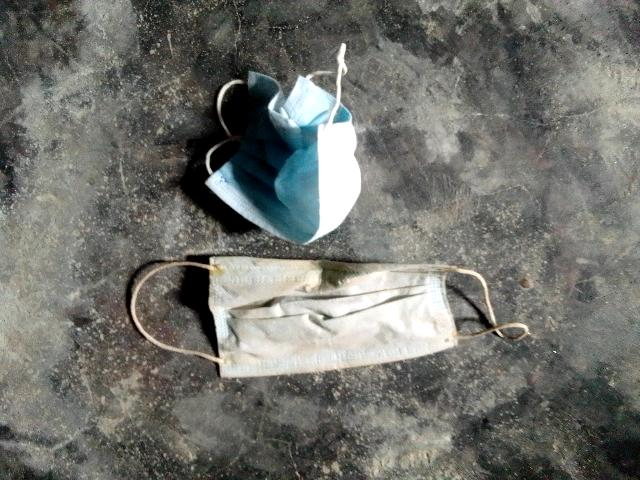mask: (160, 225, 496, 396), (199, 52, 379, 234)
